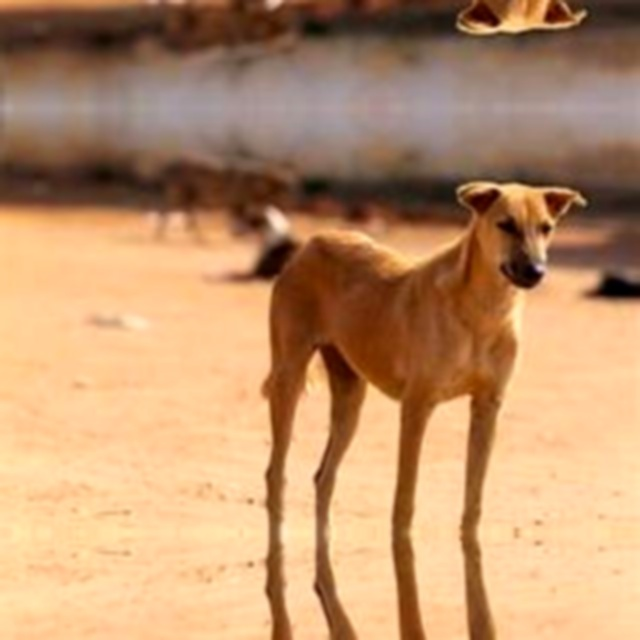dog: (199, 160, 605, 524), (199, 541, 605, 640), (199, 0, 605, 54)
